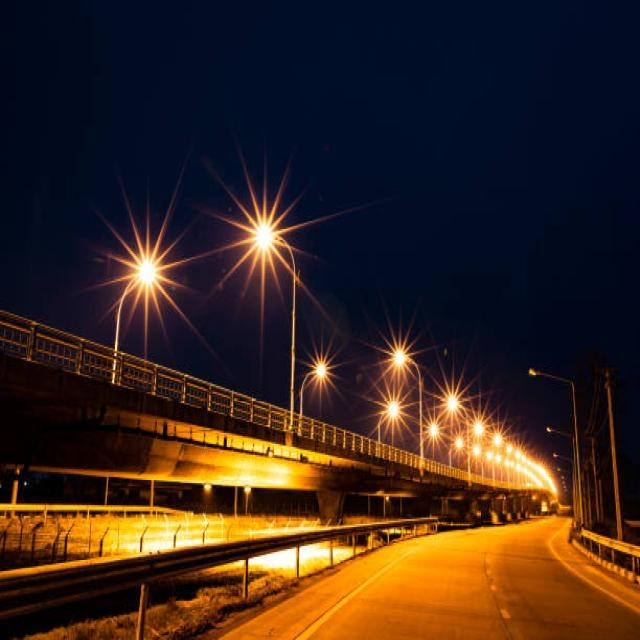acesa: (197, 149, 328, 309), (88, 166, 200, 316), (426, 350, 478, 430), (380, 333, 419, 377), (378, 393, 408, 438)
